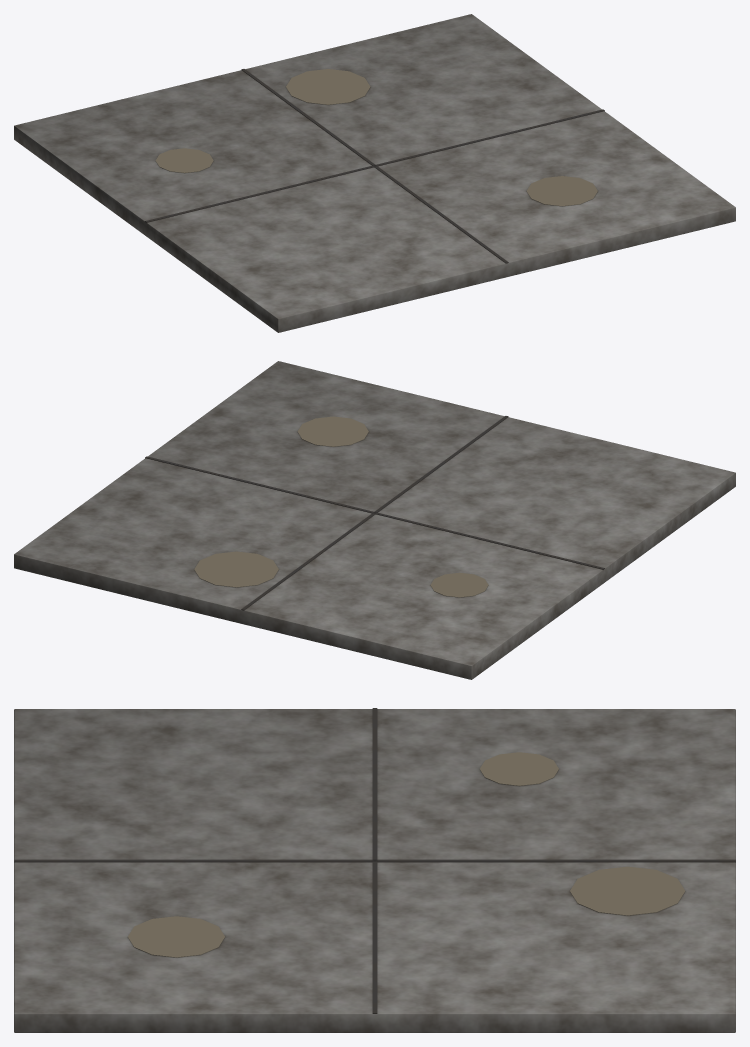
File: g67_pz_floor_dry.glb
3 renders of one model, top to bottom at view 1: azimuth 30°, elevation 25°; view 2: azimuth 150°, elevation 25°; view 3: azimuth 270°, elevation 25°, orthographic. The views are drawn at different scales.
Visible parts, largest first — view 1: g67_pz_floor_dry; view 2: g67_pz_floor_dry; view 3: g67_pz_floor_dry.
Part boxes in pixels (bbox=[...]): g67_pz_floor_dry: bbox=[14, 14, 735, 332]; g67_pz_floor_dry: bbox=[14, 361, 735, 679]; g67_pz_floor_dry: bbox=[14, 708, 735, 1032].
Size of the model in its own units: 4 by 0.1245 by 4.
1 material, 1 textured.
